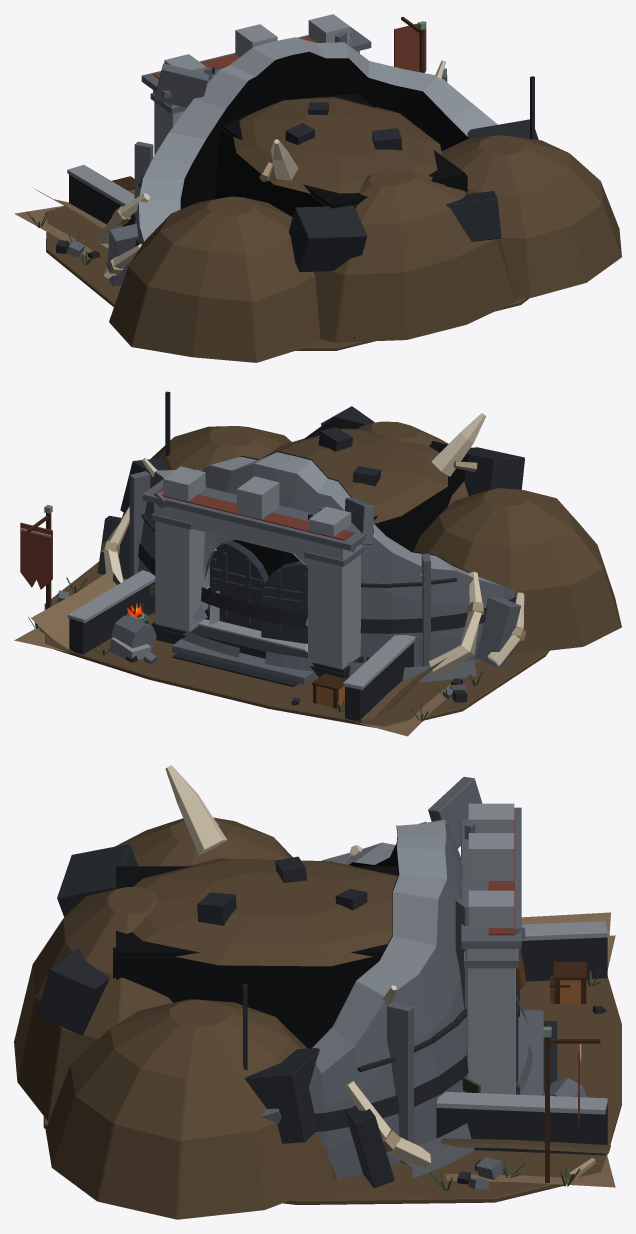
Rendered from 折壳入口_低模.glb.
3 views of the same model, one above another, from view 1: azimuth 30°, elevation 25°; view 2: azimuth 150°, elevation 25°; view 3: azimuth 270°, elevation 25° (orthographic). The views are drawn at different scales.
Parts seen in each view (by area): view 1: FS-earth_dark, FS-ancient_pale, FS-void, FS-ancient_dark, FS-ancient, FS-bone, FS-team, FS-earth, FS-wood_dark, FS-bone_dark; view 2: FS-earth_dark, FS-ancient, FS-ancient_pale, FS-ancient_dark, FS-bone, FS-earth, FS-void, dr_leaf_b, FS-team, dr_leaf_a, FS-wood_dark, FS-bone_dark (+1 smaller); view 3: FS-earth_dark, FS-ancient, FS-ancient_pale, FS-ancient_dark, FS-void, FS-bone, FS-earth, FS-wood_dark, FS-team, FS-moss_dark.
Boxes of the visible parts, x1=… form: FS-earth_dark: x1=46, y1=97, x2=621, y2=362; FS-ancient_pale: x1=67, y1=14, x2=497, y2=241; FS-void: x1=180, y1=51, x2=468, y2=216; FS-ancient_dark: x1=56, y1=67, x2=538, y2=272; FS-ancient: x1=67, y1=27, x2=447, y2=286; FS-bone: x1=96, y1=60, x2=445, y2=278; FS-team: x1=153, y1=21, x2=426, y2=79; FS-earth: x1=14, y1=188, x2=106, y2=257; FS-wood_dark: x1=111, y1=16, x2=424, y2=194; FS-bone_dark: x1=106, y1=162, x2=272, y2=273; FS-earth_dark: x1=44, y1=421, x2=621, y2=727; FS-ancient: x1=57, y1=463, x2=521, y2=699; FS-ancient_pale: x1=67, y1=452, x2=502, y2=689; FS-ancient_dark: x1=69, y1=391, x2=524, y2=721; FS-bone: x1=104, y1=413, x2=524, y2=675; FS-earth: x1=14, y1=573, x2=451, y2=736; FS-void: x1=193, y1=417, x2=469, y2=590; dr_leaf_b: x1=210, y1=540, x2=268, y2=630; FS-team: x1=20, y1=487, x2=354, y2=589; dr_leaf_a: x1=261, y1=561, x2=307, y2=643; FS-wood_dark: x1=27, y1=513, x2=365, y2=708; FS-bone_dark: x1=39, y1=461, x2=525, y2=641; FS-earth_dark: x1=14, y1=817, x2=621, y2=1219; FS-ancient: x1=261, y1=776, x2=586, y2=1189; FS-ancient_pale: x1=309, y1=803, x2=607, y2=1114; FS-ancient_dark: x1=37, y1=844, x2=607, y2=1188; FS-void: x1=113, y1=825, x2=399, y2=1048; FS-bone: x1=165, y1=765, x2=431, y2=1167; FS-earth: x1=441, y1=912, x2=615, y2=1187; FS-wood_dark: x1=545, y1=961, x2=600, y2=1182; FS-team: x1=488, y1=812, x2=579, y2=1127; FS-moss_dark: x1=429, y1=970, x2=601, y2=1190.
Bounding box in the file's own units: 12.98 × 4.56 × 10.62.
